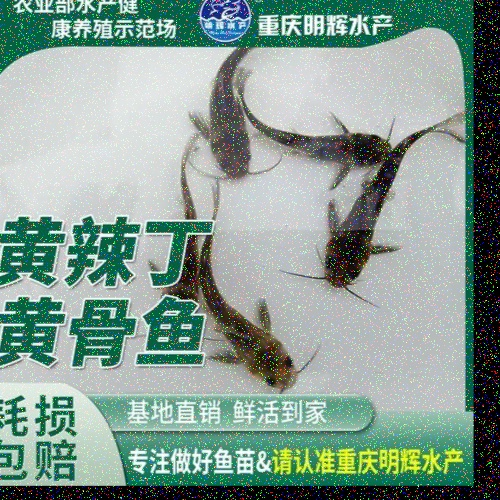fry: (207, 281, 310, 398), (196, 46, 268, 188), (319, 182, 396, 297), (148, 181, 205, 318), (266, 119, 398, 177)
